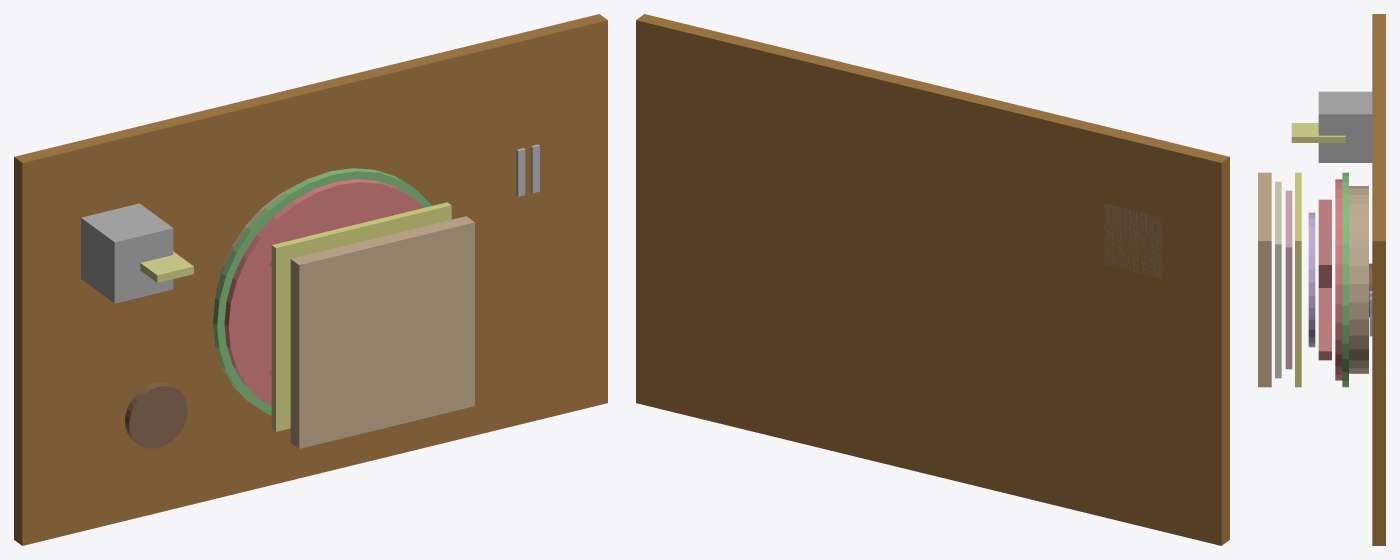
File: hamburguesa_estilizada.glb
3 views of the same model, side by side, from view 1: azimuth 30°, elevation 25°; view 2: azimuth 150°, elevation 25°; view 3: azimuth 270°, elevation 25° (orthographic). The views are drawn at different scales.
Visible parts, largest first — view 1: world; view 2: world; view 3: world.
Part boxes in pixels (x1,y1,x2,y2): world: (14, 14, 607, 545); world: (636, 14, 1229, 545); world: (1258, 14, 1385, 545).
Bounding box in the file's own units: 4 × 2.5 × 0.95.
